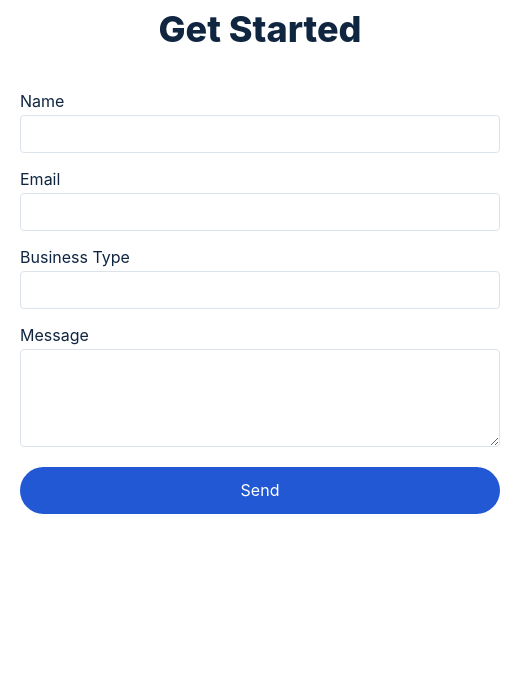
Scenario: ContactForm › shows validation errors when submitting an empty form
The width and height of the screenshot is (521, 675).
Click the button "Send".
click(260, 490)  # box [20,467,500,514]
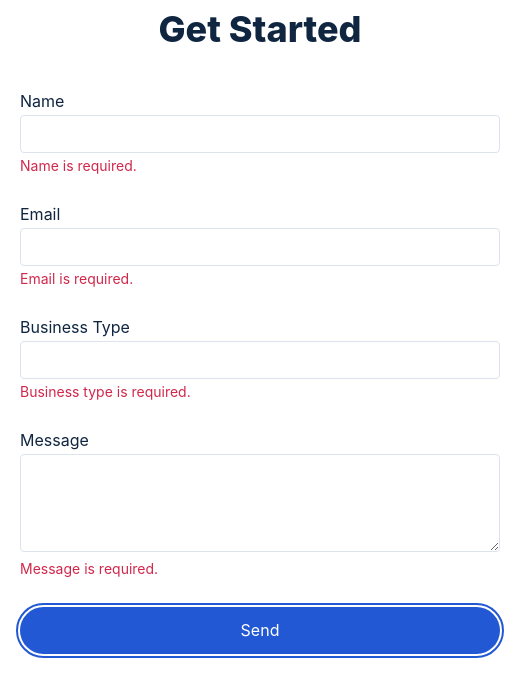
Now the text "Name is required." is shown, box [20,157,137,174]
Now the text "Email is required." is shown, box [20,270,133,287]
Now the text "Business type is required." is shown, box [20,383,191,400]
